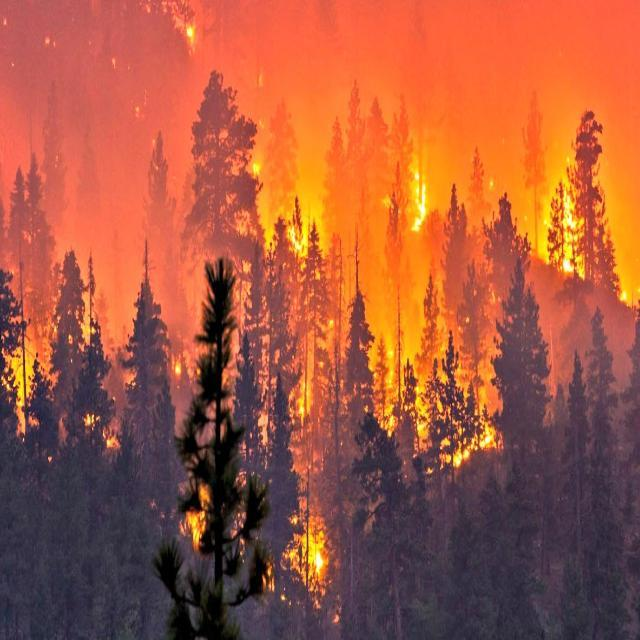Fire: (0, 140, 640, 578)
Smoke: (0, 0, 640, 347)
